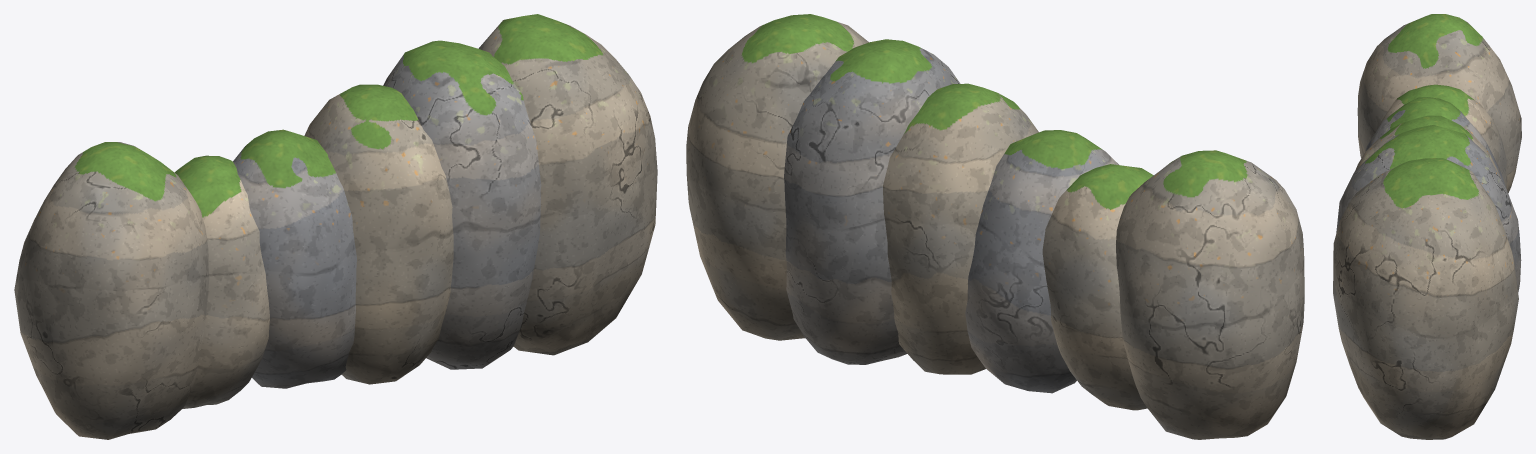
The model's file is cliff_a.glb.
The picture shows the model from 3 angles, left to right: view 1: azimuth 30°, elevation 25°; view 2: azimuth 150°, elevation 25°; view 3: azimuth 270°, elevation 25°; orthographic projection. The views are drawn at different scales.
Visible parts, largest first — view 1: Cliff; view 2: Cliff; view 3: Cliff.
Boxes of the visible parts, x1=… form: Cliff: x1=14, y1=14, x2=657, y2=439; Cliff: x1=686, y1=14, x2=1304, y2=439; Cliff: x1=1333, y1=14, x2=1521, y2=439.
Bounding box in the file's own units: 4.67 × 2.34 × 1.52.
1 material, 1 textured.
